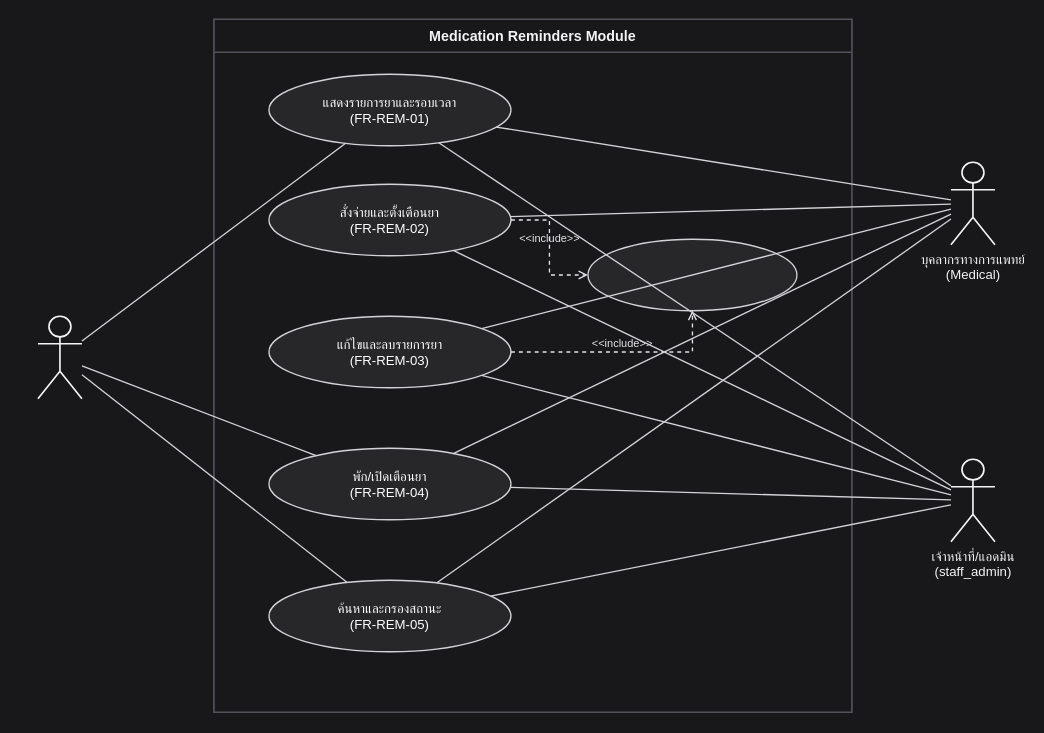
Some shapes in this 1044 by 733 pixel diagram are drawn without their labels. The centre of each missing label's shape, as x and y in pixels:
ตรวจสอบประวัติการแพ้ยา (Check Allergy Warning): (x=692, y=274)
ผู้ป่วย (Patient): (x=59, y=357)
